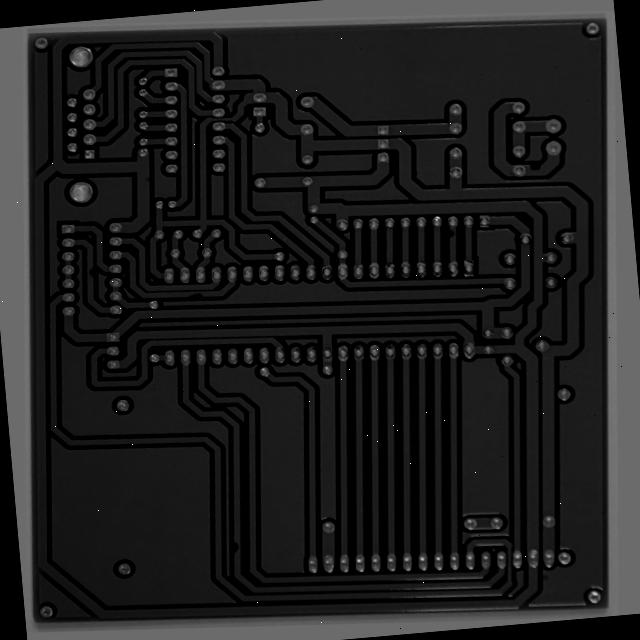mouse_bite: (239, 553, 259, 574), (529, 135, 550, 152), (61, 274, 76, 294), (171, 295, 195, 307), (448, 212, 461, 226)
